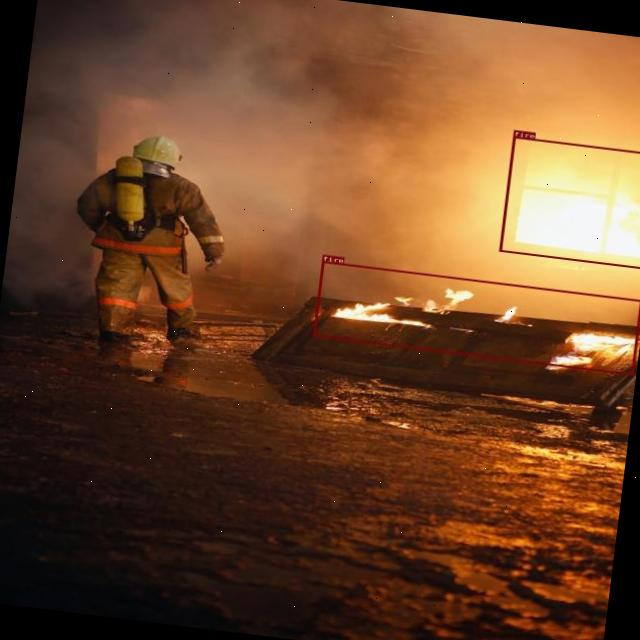fire: (312, 260, 640, 375), (497, 136, 640, 270)
